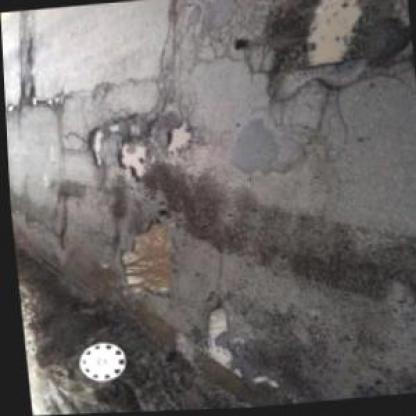pothole: (254, 0, 376, 79), (111, 219, 175, 298), (110, 141, 147, 179), (194, 305, 226, 340), (158, 121, 191, 154), (82, 127, 105, 166)
